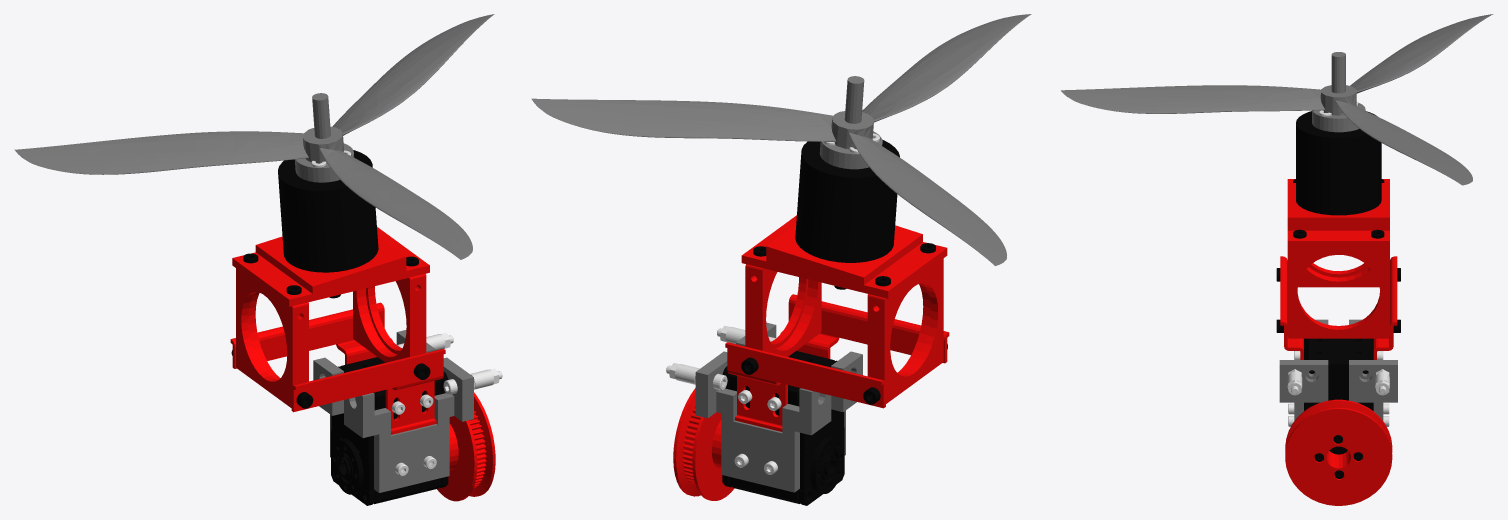
File: link1_gimbal.dae
3 views of the same model, side by side, from view 1: azimuth 30°, elevation 25°; view 2: azimuth 150°, elevation 25°; view 3: azimuth 270°, elevation 25° (orthographic). The views are drawn at different scales.
Parts seen in each view (by area): view 1: link_1_gimbal - gimbal_rotation_base-1 gimbal_servo_with_ho. (×9), link_1_gimbal - tmotor_at2814_with_9inch_prop-1 9inch_prop-1, link_1_gimbal - tmotor_at2814_with_9inch_prop-1 t_motor_at2. (×2), link_1_gimbal - gimbal_rotation_base-1 gimbal_roll_holder_PL (×2), link_1_gimbal - motor_mount_link1_v2-1; view 2: link_1_gimbal - gimbal_rotation_base-1 gimbal_servo_with_ho. (×9), link_1_gimbal - tmotor_at2814_with_9inch_prop-1 9inch_prop-1, link_1_gimbal - tmotor_at2814_with_9inch_prop-1 t_motor_at2. (×2), link_1_gimbal - gimbal_rotation_base-1 gimbal_roll_holder_PL (×2), link_1_gimbal - motor_mount_link1_v2-1; view 3: link_1_gimbal - gimbal_rotation_base-1 gimbal_servo_with_ho. (×7), link_1_gimbal - tmotor_at2814_with_9inch_prop-1 9inch_prop-1, link_1_gimbal - tmotor_at2814_with_9inch_prop-1 t_motor_at2. (×2), link_1_gimbal - gimbal_rotation_base-1 gimbal_roll_holder_PL (×2), link_1_gimbal - motor_mount_link1_v2-1.
Part boxes in pixels (bbox=[...]): link_1_gimbal - gimbal_rotation_base-1 gimbal_servo_with_ho. (×9): bbox=[230, 302, 495, 504]; link_1_gimbal - tmotor_at2814_with_9inch_prop-1 9inch_prop-1: bbox=[14, 14, 494, 259]; link_1_gimbal - tmotor_at2814_with_9inch_prop-1 t_motor_at2. (×2): bbox=[278, 93, 378, 298]; link_1_gimbal - gimbal_rotation_base-1 gimbal_roll_holder_PL (×2): bbox=[236, 268, 426, 407]; link_1_gimbal - motor_mount_link1_v2-1: bbox=[232, 227, 429, 306]; link_1_gimbal - gimbal_rotation_base-1 gimbal_servo_with_ho. (×9): bbox=[673, 294, 949, 503]; link_1_gimbal - tmotor_at2814_with_9inch_prop-1 9inch_prop-1: bbox=[531, 14, 1031, 265]; link_1_gimbal - tmotor_at2814_with_9inch_prop-1 t_motor_at2. (×2): bbox=[795, 76, 899, 289]; link_1_gimbal - gimbal_rotation_base-1 gimbal_roll_holder_PL (×2): bbox=[745, 258, 943, 403]; link_1_gimbal - motor_mount_link1_v2-1: bbox=[741, 215, 947, 298]; link_1_gimbal - gimbal_rotation_base-1 gimbal_servo_with_ho. (×7): bbox=[1279, 256, 1397, 505]; link_1_gimbal - tmotor_at2814_with_9inch_prop-1 9inch_prop-1: bbox=[1061, 14, 1493, 185]; link_1_gimbal - tmotor_at2814_with_9inch_prop-1 t_motor_at2. (×2): bbox=[1296, 52, 1381, 215]; link_1_gimbal - gimbal_rotation_base-1 gimbal_roll_holder_PL (×2): bbox=[1287, 247, 1389, 338]; link_1_gimbal - motor_mount_link1_v2-1: bbox=[1287, 179, 1389, 247].
Size of the model in its own units: 0.1976 by 0.1779 by 0.1758.
